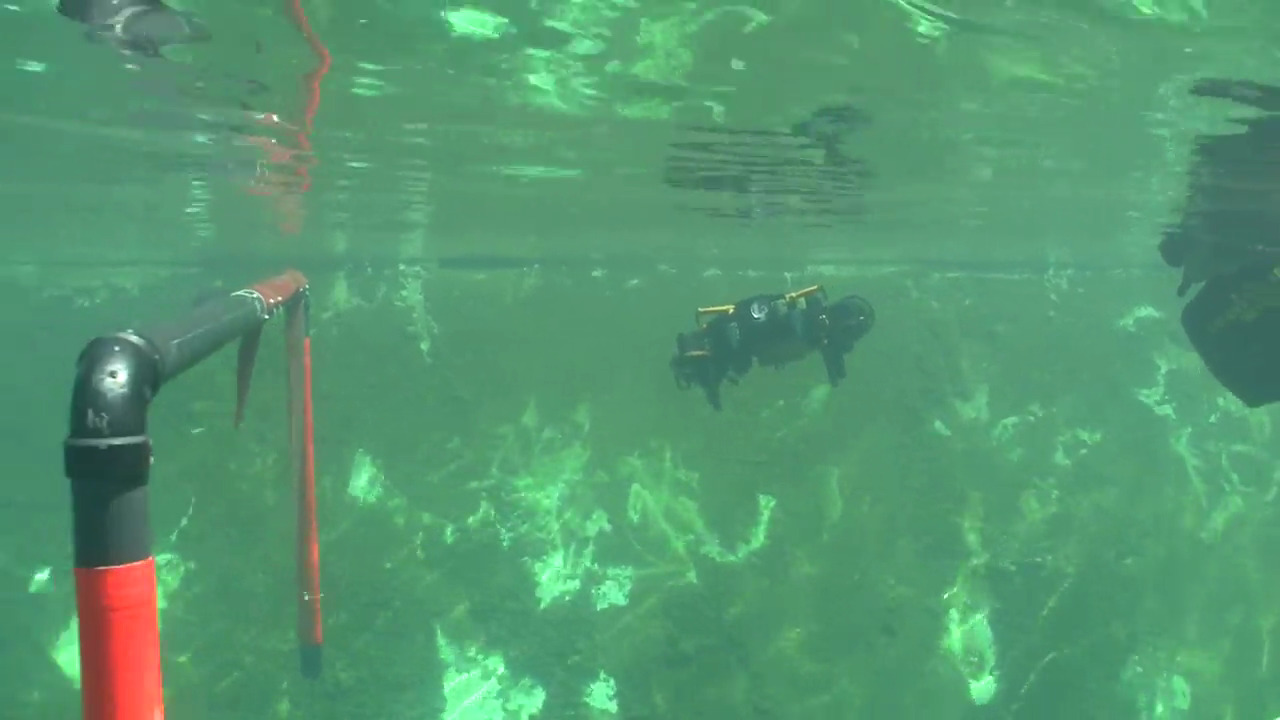gate: (58, 255, 338, 720)
